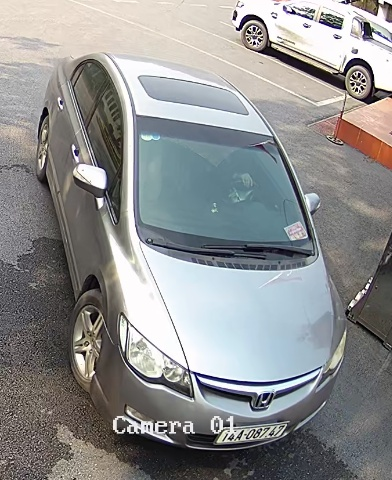vehicle plate: (209, 418, 297, 446)
